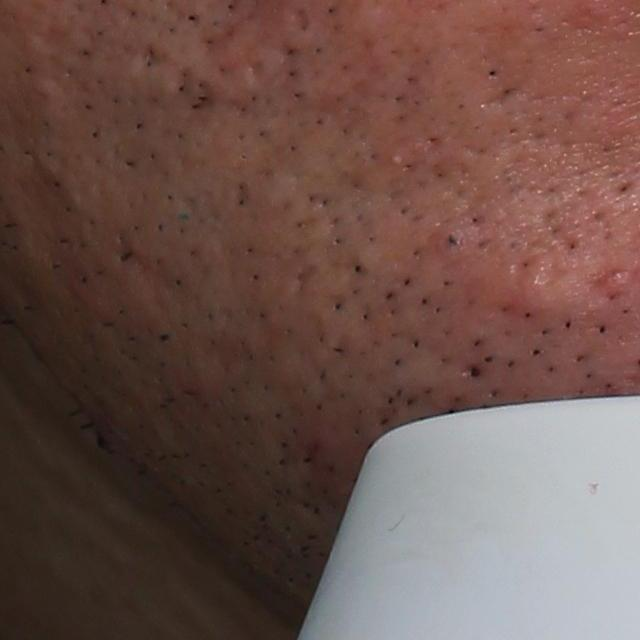atrophic_scar: (101, 227, 189, 306)
hypertrophic_scar: (460, 244, 614, 335)
